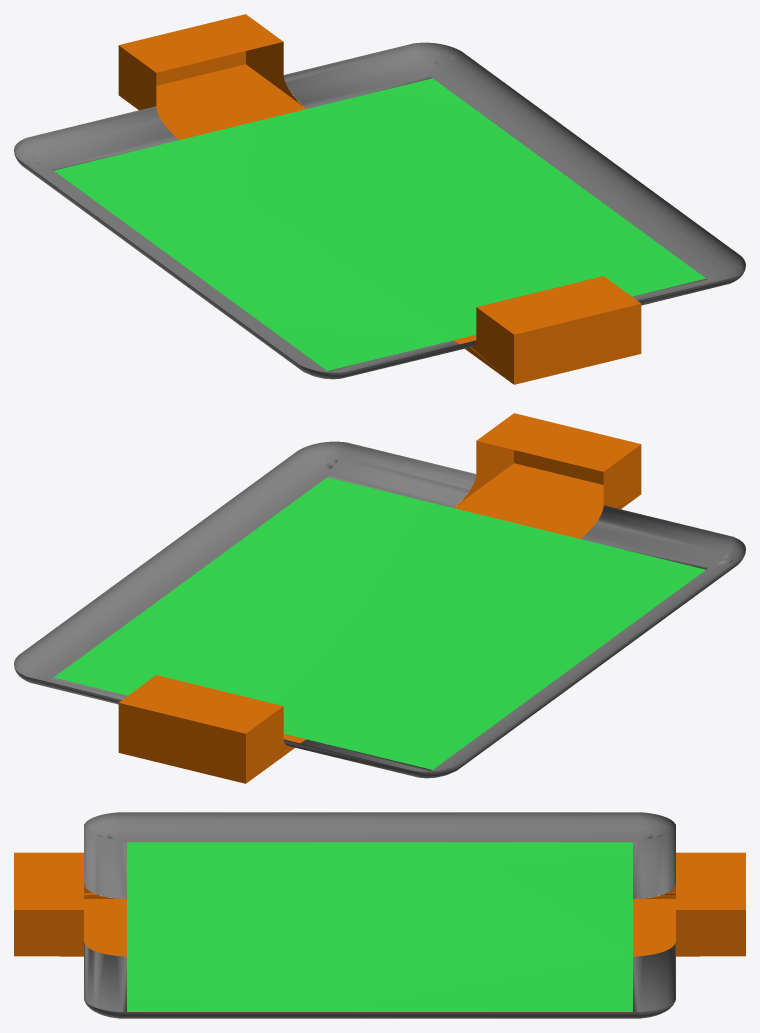
File: soccerfield.glb
The picture shows the model from 3 angles, top to bottom: view 1: azimuth 30°, elevation 25°; view 2: azimuth 150°, elevation 25°; view 3: azimuth 270°, elevation 25°; orthographic projection. The views are drawn at different scales.
Parts seen in each view (by area): view 1: Cube.001; view 2: Cube.001; view 3: Cube.001.
Part boxes in pixels (box(x1,y1,x2,y2)): Cube.001: box(14, 14, 745, 384); Cube.001: box(14, 413, 745, 783); Cube.001: box(14, 812, 745, 1018).
Bounding box in the file's own units: 79.9 × 8.66 × 124.
